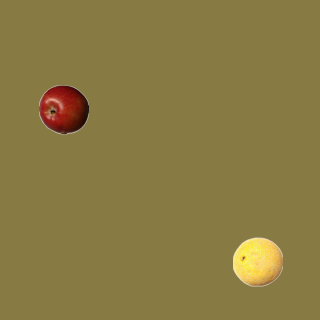Apple Braeburn: (38, 84, 88, 134)
Cantaloupe 1: (232, 236, 282, 286)
